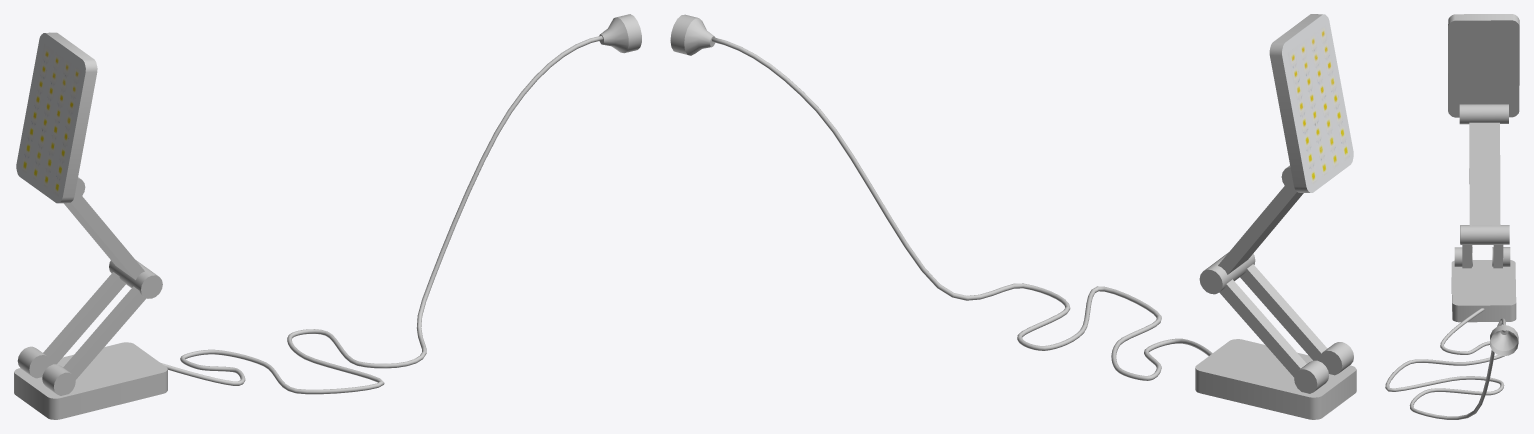
Rendered from Lampara_3.FBX.
3 views of the same model, side by side, from view 1: azimuth 30°, elevation 25°; view 2: azimuth 150°, elevation 25°; view 3: azimuth 270°, elevation 25° (orthographic). The views are drawn at different scales.
Parts seen in each view (by area): view 1: Pintura_planca_lampara_3, Pintura_negra_lampara_3, Eemisivo_lampara_3; view 2: Pintura_planca_lampara_3, Pintura_negra_lampara_3, Eemisivo_lampara_3; view 3: Pintura_planca_lampara_3, Pintura_negra_lampara_3.
Boxes of the visible parts, bbox=[...] form: Pintura_planca_lampara_3: bbox=[14, 32, 167, 419]; Pintura_negra_lampara_3: bbox=[14, 14, 641, 417]; Eemisivo_lampara_3: bbox=[16, 33, 85, 203]; Pintura_planca_lampara_3: bbox=[1195, 14, 1356, 419]; Pintura_negra_lampara_3: bbox=[670, 14, 1356, 417]; Eemisivo_lampara_3: bbox=[1282, 14, 1353, 192]; Pintura_planca_lampara_3: bbox=[1448, 14, 1519, 322]; Pintura_negra_lampara_3: bbox=[1385, 104, 1518, 419].
Bounding box in the file's own units: 1.21 × 0.6711 × 0.2916.
